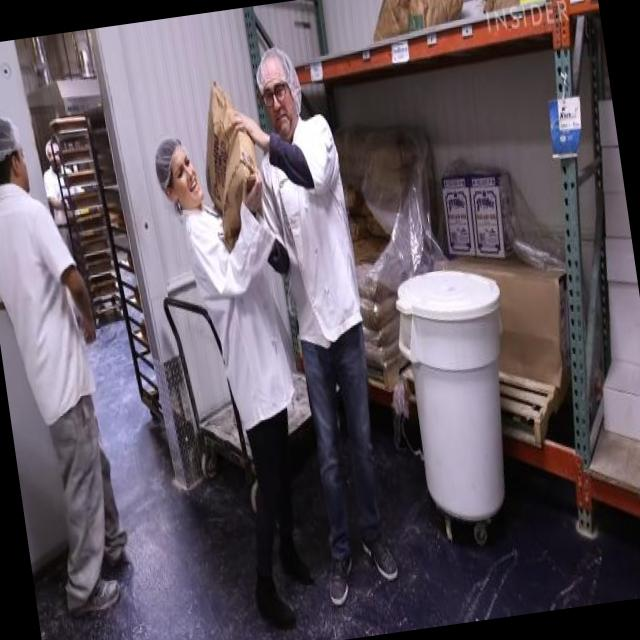hairnet: (258, 46, 304, 92), (146, 130, 187, 180), (0, 112, 25, 163)
